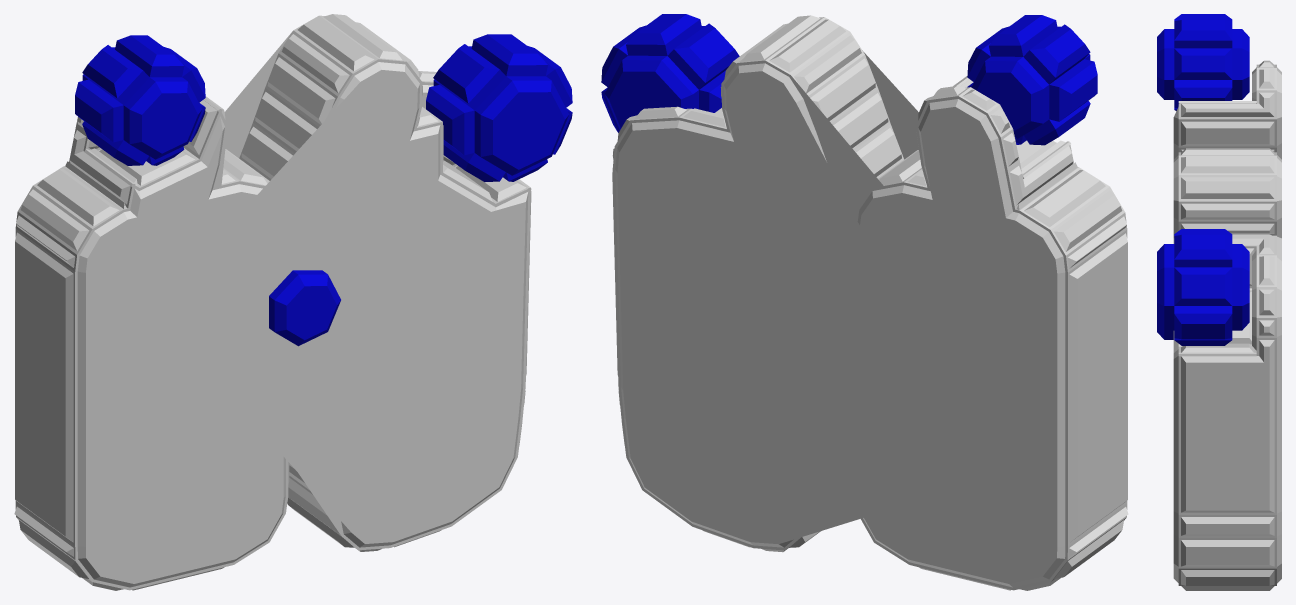
File: Ch_China_的_01.fbx
3 views of the same model, side by side, from view 1: azimuth 30°, elevation 25°; view 2: azimuth 150°, elevation 25°; view 3: azimuth 270°, elevation 25° (orthographic). The views are drawn at different scales.
Visible parts, largest first — view 1: sphere1; view 2: sphere1; view 3: sphere1.
Boxes of the visible parts, x1,y1,x2,y2 form: sphere1: [14, 14, 572, 590]; sphere1: [601, 14, 1128, 590]; sphere1: [1157, 14, 1281, 590].
Size of the model in its own units: 0.9763 by 1.03 by 0.2541.
